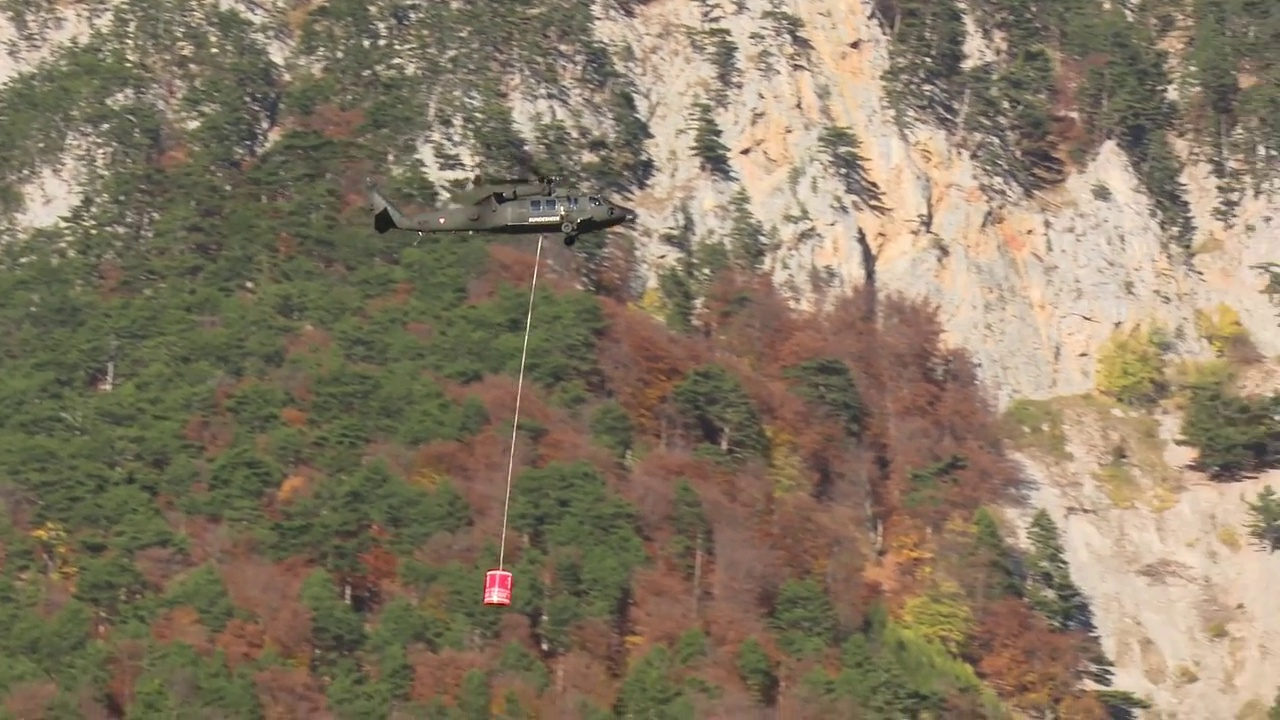heli: (374, 174, 635, 246)
